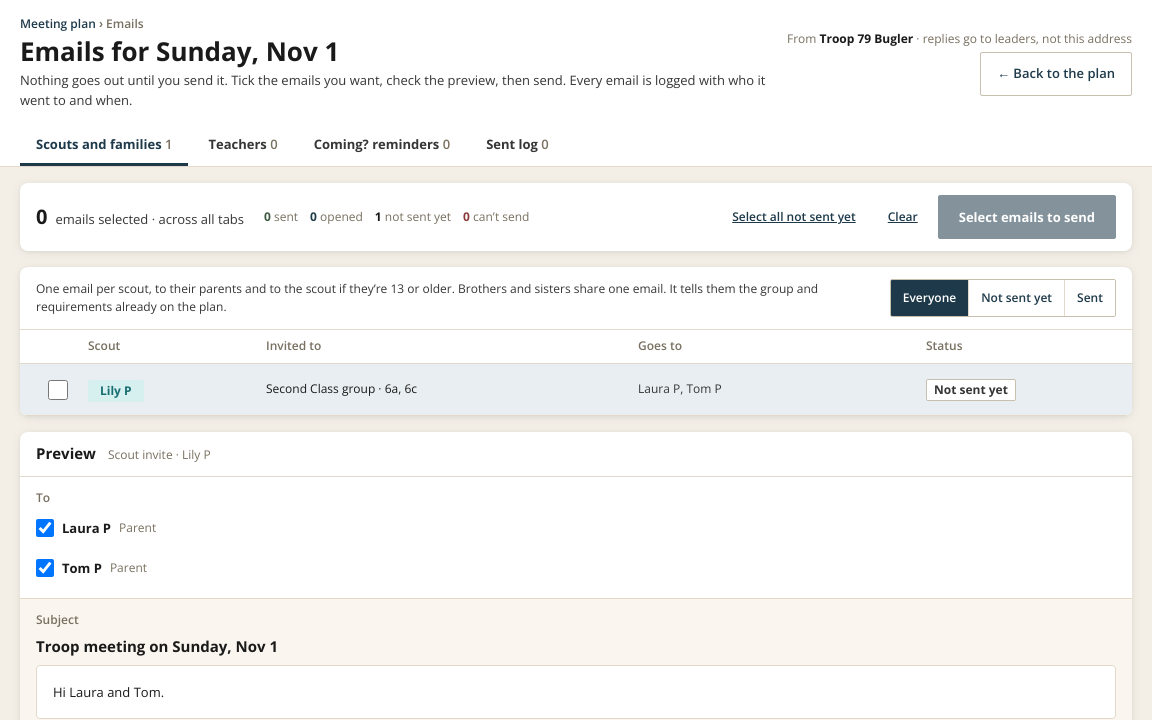
Test case: Emails screen › Preview_UntickedParent_IsLeftOut
The width and height of the screenshot is (1152, 720).
What coordinates should you click on to do the following:
click the checkbox named "Include the email about Lily P"
I would click on:
 (58, 390)
Its box is [48,380,68,400].
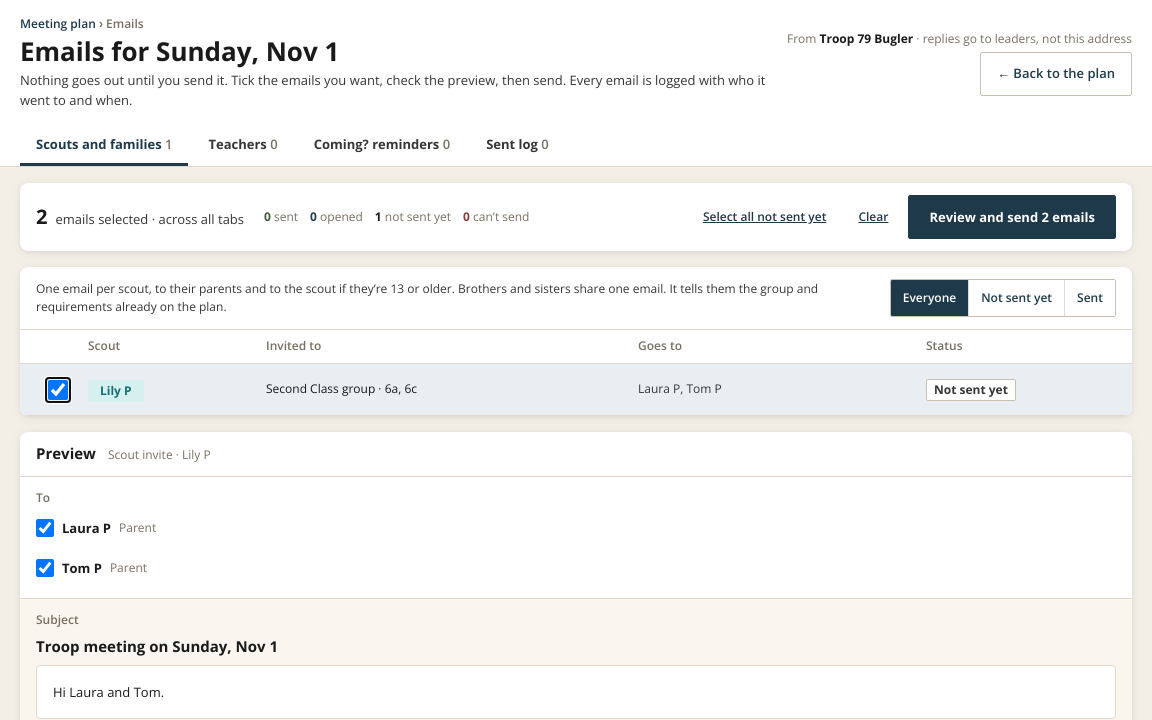
What coordinates should you click on to do the following:
click the button "Lily P"
I would click on:
 (116, 390)
Its box is [88,377,144,402].
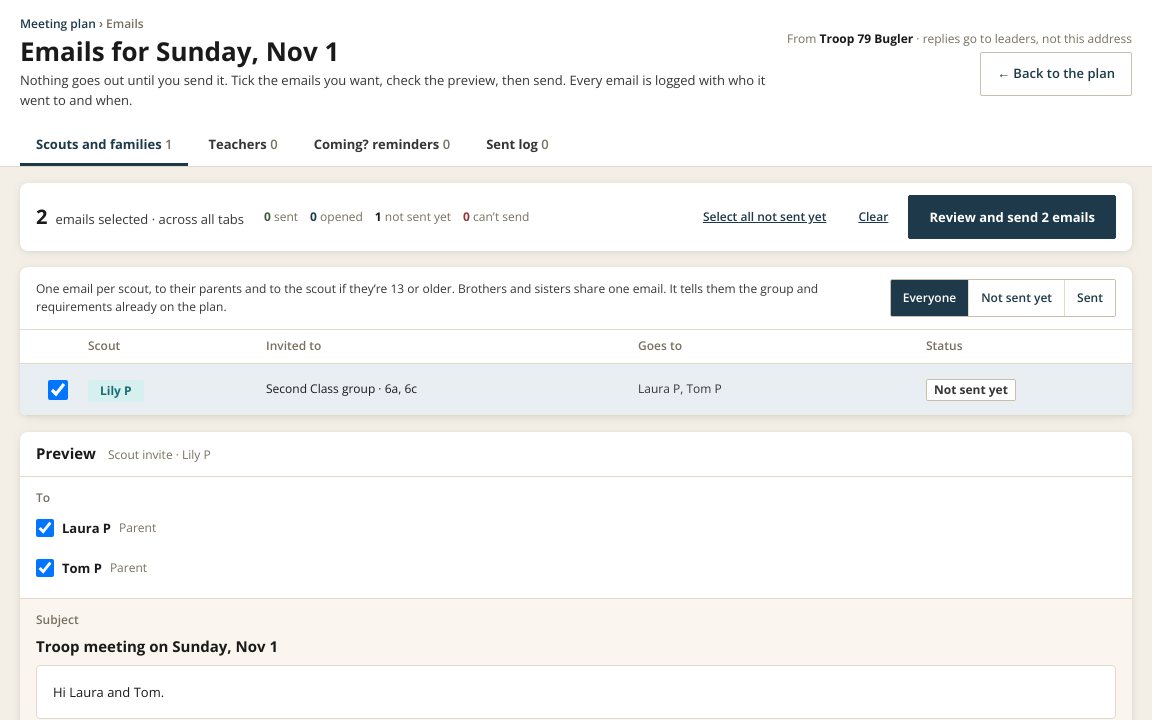
What coordinates should you click on to do the following:
click the checkbox labelled "Tom P Parent"
I would click on:
 (45, 568)
Its box is [36,559,54,577].
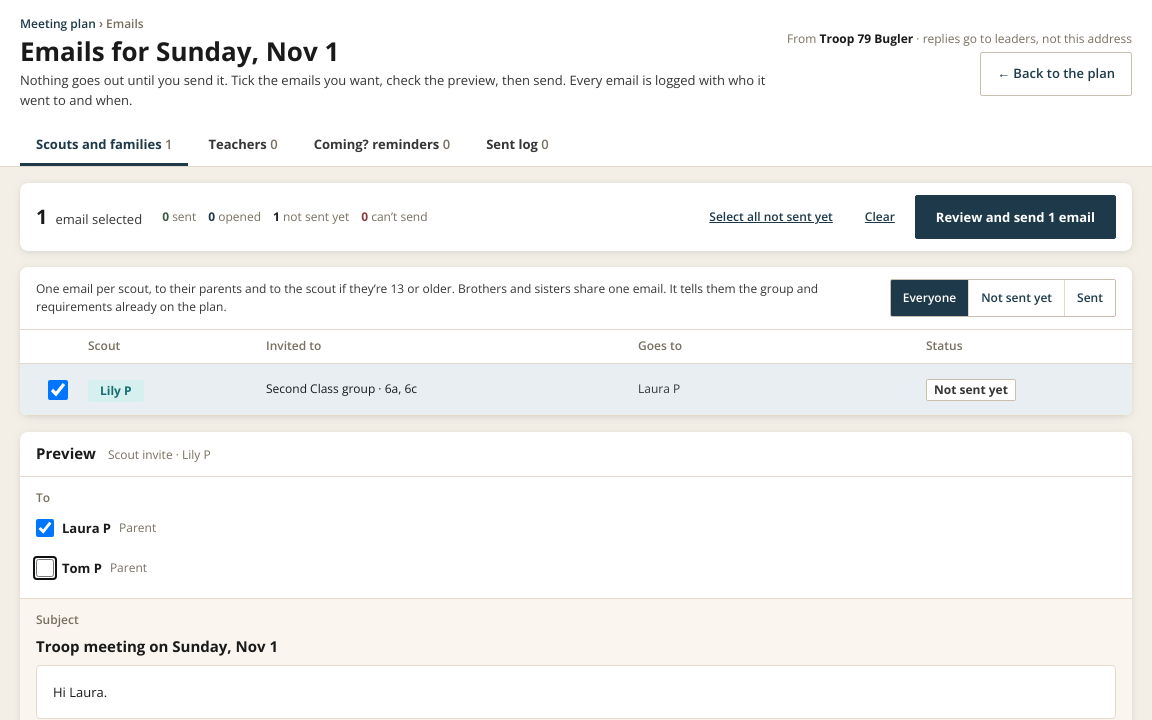
Result: the button "Review and send 1 email" is shown at [915,195,1116,239]
